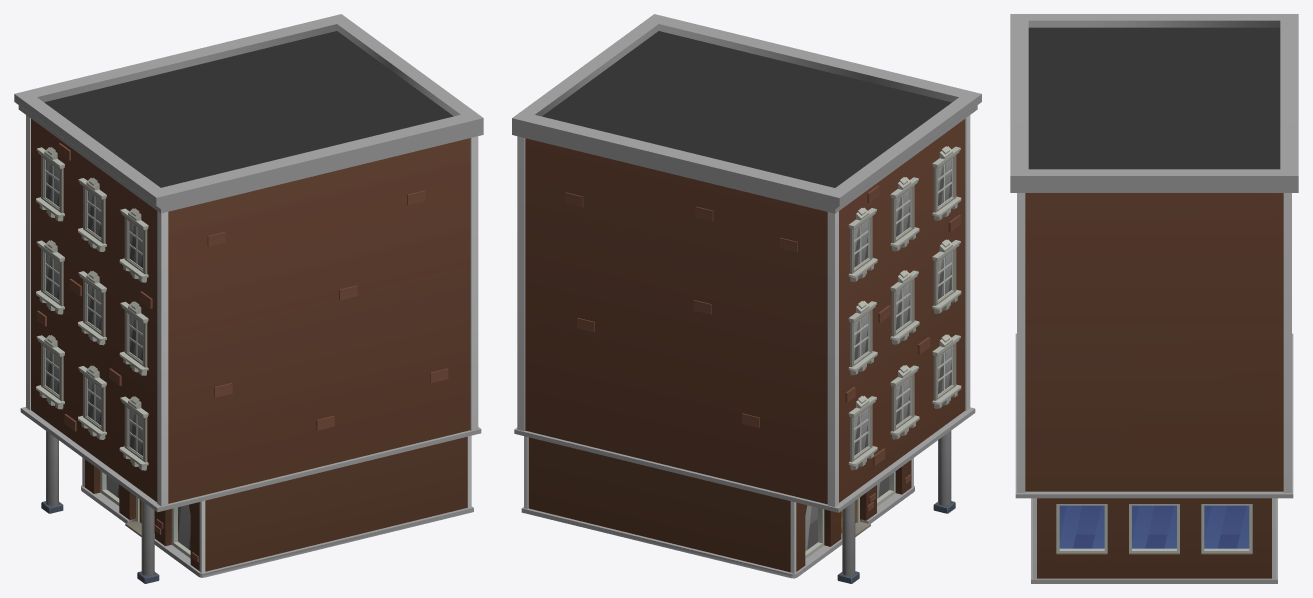
The model's file is Building_4_F.fbx.
3 views of the same model, side by side, from view 1: azimuth 30°, elevation 25°; view 2: azimuth 150°, elevation 25°; view 3: azimuth 270°, elevation 25° (orthographic).
Parts seen in each view (by area): view 1: Building_4_F; view 2: Building_4_F; view 3: Building_4_F.
Boxes of the visible parts, x1,y1,x2,y2 form: Building_4_F: [14, 14, 483, 583]; Building_4_F: [512, 14, 981, 583]; Building_4_F: [1010, 14, 1298, 583].
Bounding box in the file's own units: 1585 × 1855 × 1191.
